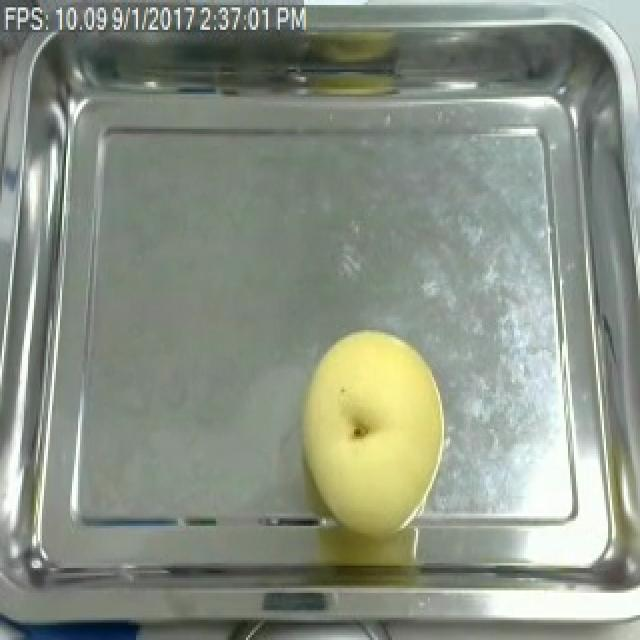Fruit: (288, 320, 454, 536)
